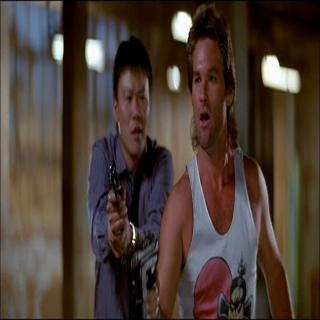gun: (100, 156, 135, 250), (126, 236, 164, 312)
